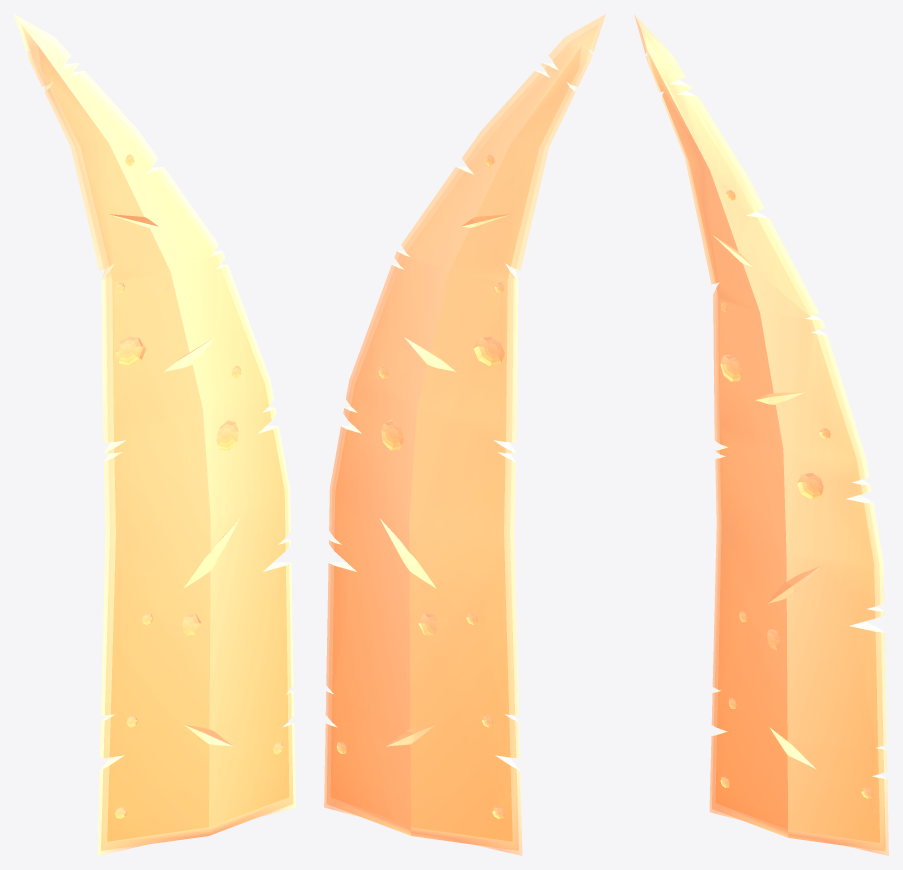
The model's file is wood_blade_bubbles_073.glb.
The picture shows the model from 3 angles, left to right: view 1: azimuth 30°, elevation 25°; view 2: azimuth 150°, elevation 25°; view 3: azimuth 330°, elevation 25°; orthographic projection. The views are drawn at different scales.
Visible parts, largest first — view 1: wood_blade_bubbles.073; view 2: wood_blade_bubbles.073; view 3: wood_blade_bubbles.073.
Part boxes in pixels (x1,y1,x2,y2): wood_blade_bubbles.073: (14, 14, 295, 855); wood_blade_bubbles.073: (324, 14, 605, 855); wood_blade_bubbles.073: (634, 14, 888, 855).
Bounding box in the file's own units: 4.2 × 12.29 × 0.7262.
Materials: 1 (1 with a texture image).
